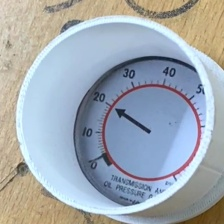gauge: (73, 56, 207, 206)
